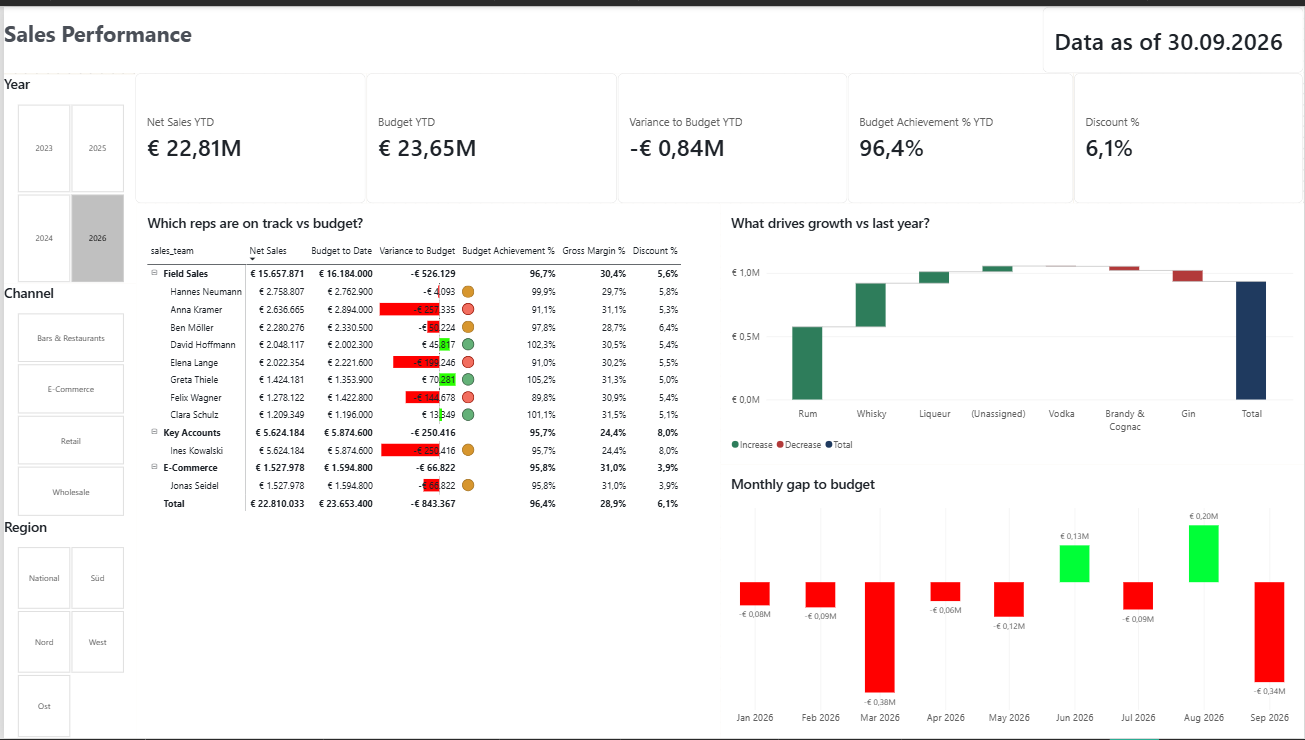

Layout of this report page (visuals, bound fields, positions):
{"tool":"powerbi","page":{"name":"Sales Performance","canvas":[1920,1080],"ordinal":1},"visuals":[{"type":"slicer","title":"Year","fields":{"Values":["dim_date.year"]},"box":[0,99.7,195.7,308.3],"z":0},{"type":"slicer","title":"Channel","fields":{"Values":["dim_customer.channel_name"]},"box":[0,408,195.7,345.2],"z":1000},{"type":"slicer","title":"Region","fields":{"Values":["dim_salesperson.sales_region"]},"box":[0,753.2,195.7,326.8],"z":2000},{"type":"textbox","box":[0,0,1534.2,97.8],"z":3000},{"type":"cardVisual","fields":{"Data":["_Measures.Data As Of"]},"box":[1534.2,0,385.8,97.8],"z":4000},{"type":"cardVisual","fields":{"Data":["_Measures.Net Sales YTD"]},"box":[194.1,98.3,340.7,192],"z":5000},{"type":"cardVisual","fields":{"Data":["_Measures.Budget YTD"]},"box":[534.8,98.3,370.8,192],"z":6000},{"type":"cardVisual","fields":{"Data":["_Measures.Variance to Budget YTD"]},"box":[906.5,97.8,339.7,192],"z":7000},{"type":"cardVisual","fields":{"Data":["_Measures.Budget Achievement % YTD"]},"box":[1246.4,98.3,333.2,192],"z":8000},{"type":"cardVisual","fields":{"Data":["_Measures.Discount %"]},"box":[1579.5,98.3,338.8,192],"z":9000},{"type":"pivotTable","title":"Which reps are on track vs budget?","fields":{"Rows":["dim_salesperson.sales_team","dim_salesperson.salesperson_name"],"Values":["_Measures.Net Sales (Budgeted Periods)","_Measures.Budget to Date","_Measures.Variance to Budget","_Measures.Budget Achievement %","_Measures.Gross Margin %","_Measures.Discount %"]},"box":[195.7,289.8,862.2,790.2],"z":10000},{"type":"waterfallChart","title":"What drives growth vs last year?","fields":{"Category":["dim_item_category.item_category_name"],"Y":["_Measures.Net Sales YTD vs PY"]},"box":[1057.8,289.8,862.2,385.8],"z":11000},{"type":"clusteredColumnChart","title":"Monthly gap to budget","fields":{"Category":["dim_date.month_start_date"],"Y":["_Measures.Variance to Budget"]},"box":[1057.8,675.7,862.2,404.3],"z":12000}]}

Visuals, with their boxes in screenshot pixels (x1, y1, x2, y2), scaled from the page's 1920x1080 canvas onto the 1305x740 screenshot:
"Year" slicer: bbox=[0, 68, 133, 280]
"Channel" slicer: bbox=[0, 280, 133, 516]
"Region" slicer: bbox=[0, 516, 133, 739]
textbox: bbox=[0, 0, 1043, 67]
cardVisual - _Measures.Data As Of: bbox=[1043, 0, 1304, 67]
cardVisual - _Measures.Net Sales YTD: bbox=[132, 67, 363, 199]
cardVisual - _Measures.Budget YTD: bbox=[363, 67, 616, 199]
cardVisual - _Measures.Variance to Budget YTD: bbox=[616, 67, 847, 199]
cardVisual - _Measures.Budget Achievement % YTD: bbox=[847, 67, 1074, 199]
cardVisual - _Measures.Discount %: bbox=[1074, 67, 1304, 199]
"Which reps are on track vs budget?" pivotTable: bbox=[133, 199, 719, 739]
"What drives growth vs last year?" waterfallChart: bbox=[719, 199, 1304, 463]
"Monthly gap to budget" clusteredColumnChart: bbox=[719, 463, 1304, 739]
